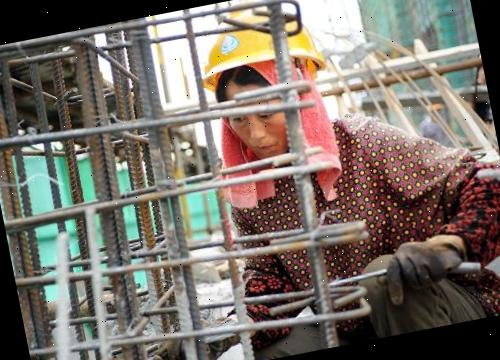helmet: (182, 0, 330, 94)
no_wear: (230, 127, 452, 336)
